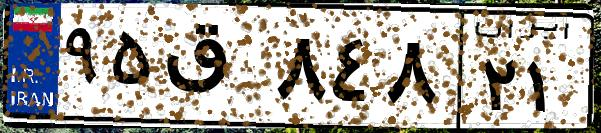1: (525, 38, 570, 115)
2: (475, 38, 525, 113)
4: (330, 28, 385, 110)
5: (110, 28, 158, 98)
8: (270, 28, 330, 110), (385, 28, 445, 110)
9: (57, 26, 110, 100)
ق: (158, 20, 270, 120)
